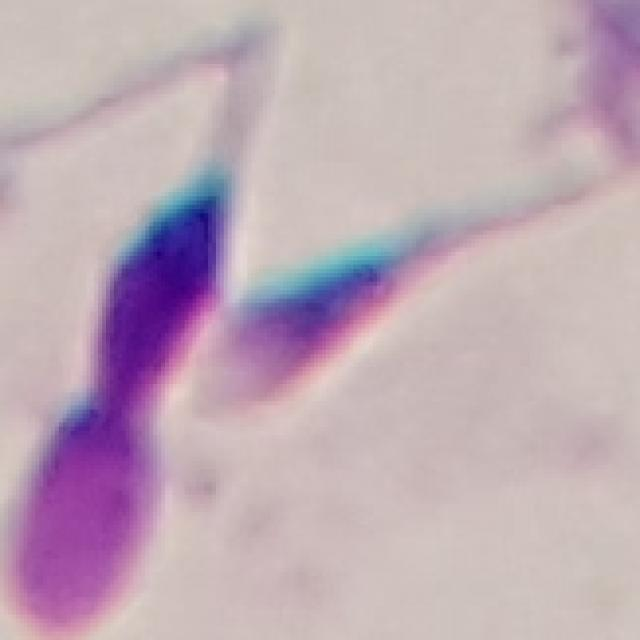abnormal sperm: (0, 52, 336, 621)
